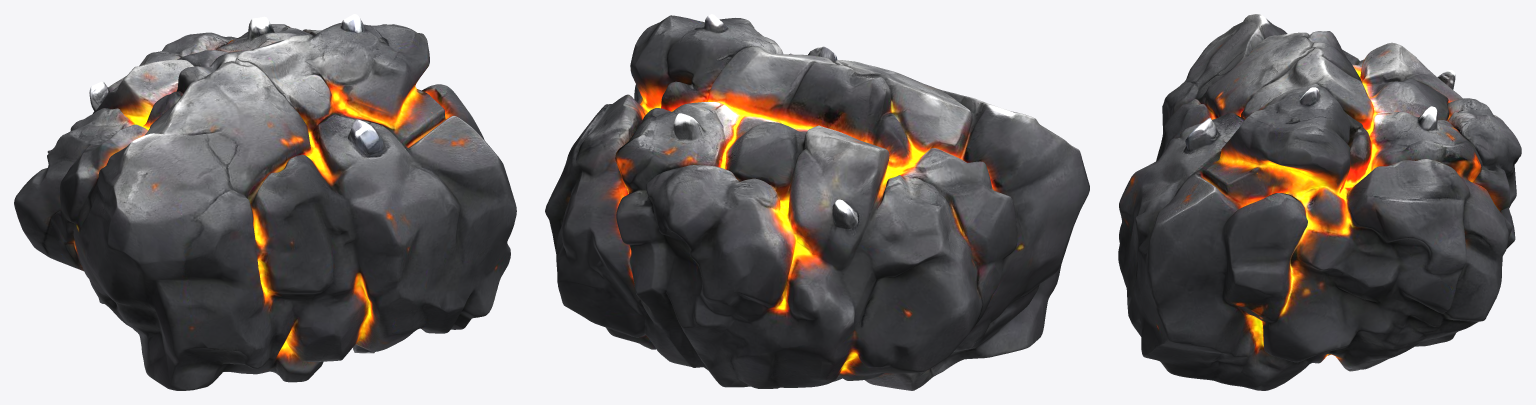
File: meteor_cube.glb
3 views of the same model, side by side, from view 1: azimuth 30°, elevation 25°; view 2: azimuth 150°, elevation 25°; view 3: azimuth 270°, elevation 25° (orthographic). The views are drawn at different scales.
Visible parts, largest first — view 1: mesh_node; view 2: mesh_node; view 3: mesh_node.
Part boxes in pixels (x1=…): mesh_node: x1=14, y1=14, x2=516, y2=390; mesh_node: x1=545, y1=14, x2=1089, y2=390; mesh_node: x1=1118, y1=14, x2=1521, y2=390.
Bounding box in the file's own units: 1.9 × 1.4 × 1.69.
1 material, 1 textured.
